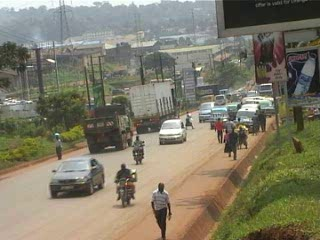Car: (47, 153, 105, 200), (156, 115, 189, 147), (195, 99, 217, 124)
Motorcycle: (113, 168, 139, 207), (130, 138, 146, 166)
